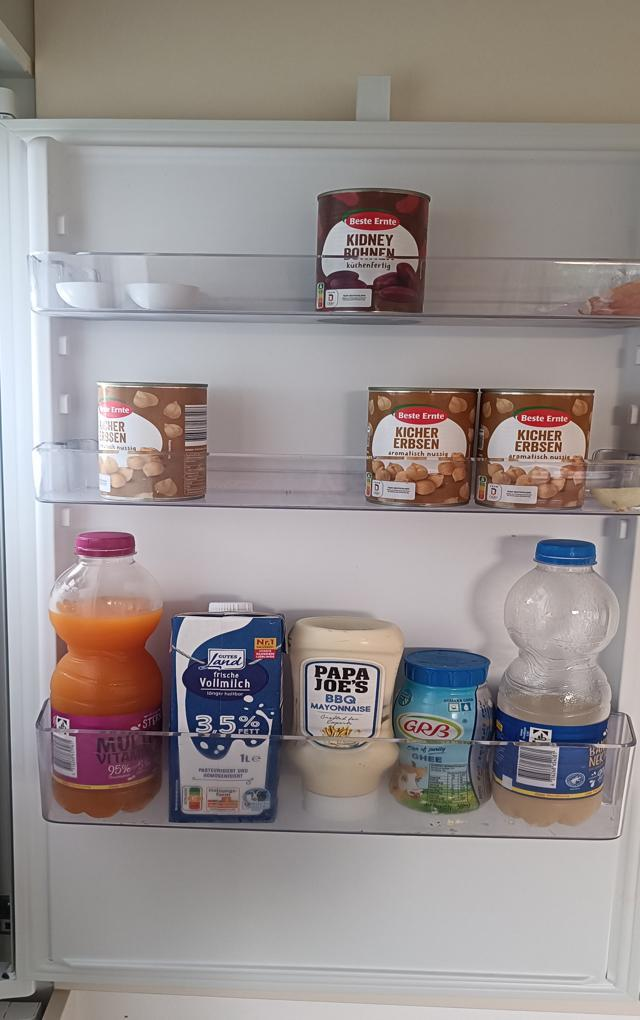bananajuice: (498, 534, 624, 827)
chickpeas: (95, 380, 211, 500), (366, 388, 476, 508), (482, 388, 590, 505)
ghee: (390, 645, 500, 820)
kidneybeans: (320, 189, 433, 316)
mayoniasie: (289, 616, 407, 829)
milk: (171, 604, 289, 823)
orangejuice: (51, 529, 170, 821)
